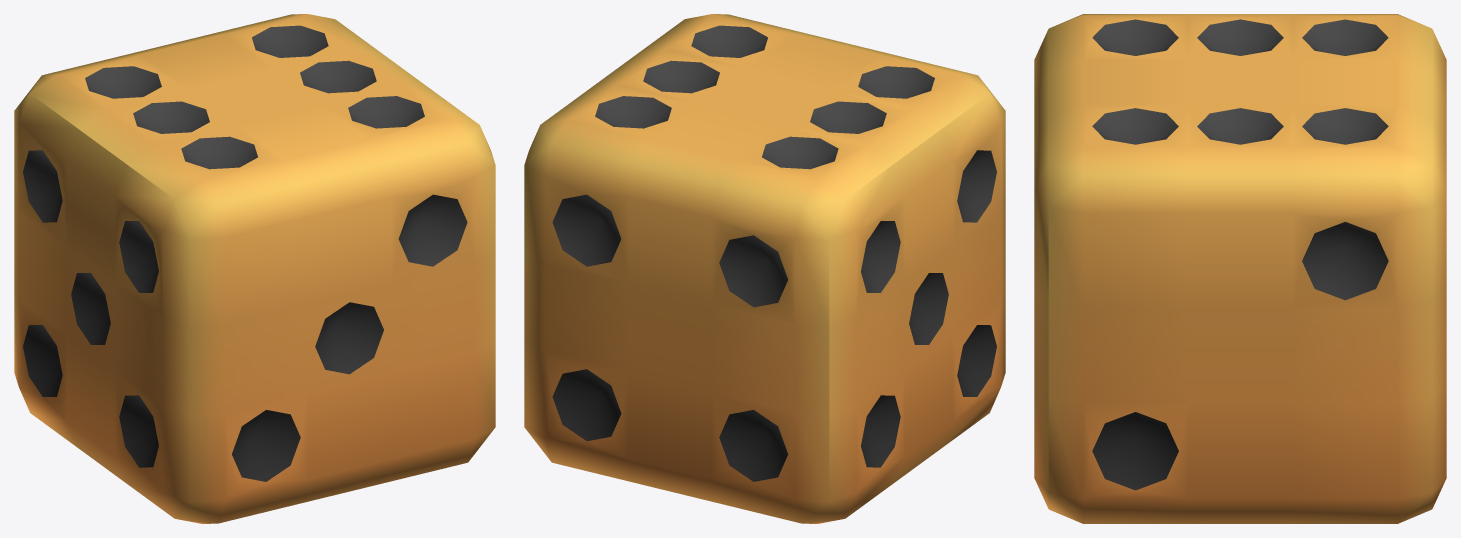
The model's file is d6-a-yellow.glb.
3 renders of one model, left to right at view 1: azimuth 30°, elevation 25°; view 2: azimuth 150°, elevation 25°; view 3: azimuth 270°, elevation 25°, orthographic. The views are drawn at different scales.
Visible parts, largest first — view 1: D6_A_yellow; view 2: D6_A_yellow; view 3: D6_A_yellow.
Part boxes in pixels (box(x1,y1,x2,y2)): D6_A_yellow: box(14, 14, 495, 523); D6_A_yellow: box(524, 14, 1005, 523); D6_A_yellow: box(1034, 14, 1446, 523).
Size of the model in its own units: 0.75 by 0.75 by 0.75.
Materials: 1 (1 with a texture image).
